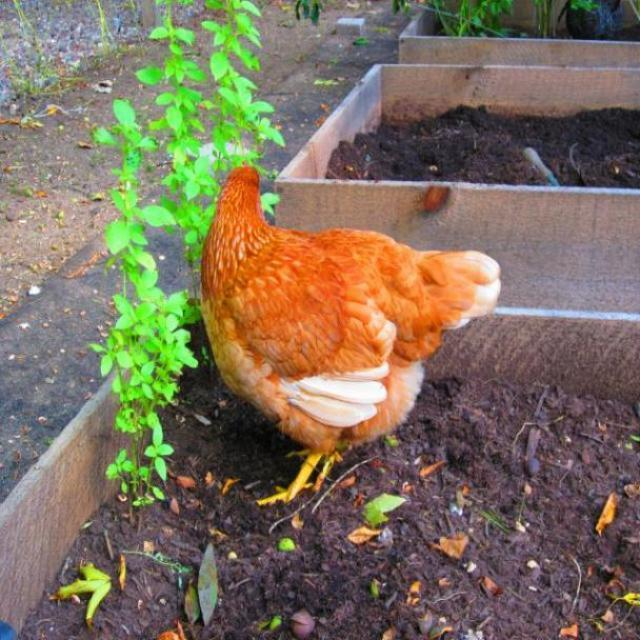Chicken: (202, 161, 502, 505)
